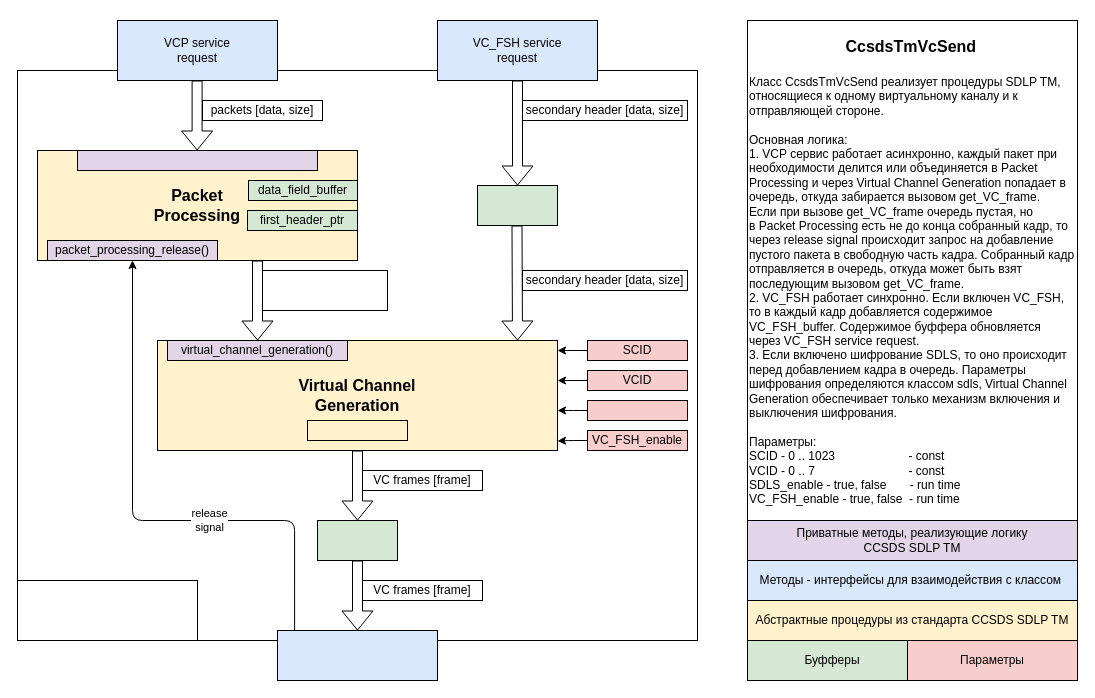
Some shapes in this 1095 by 698 pixel diagram are drawn without their labels. Each missing label, with the centre of its shape:
"class CcsdsTmVcSend" belongs at point 107,610.
"data fields [data, size], first_header_ptr" belongs at point 325,290.
"frames FIFO" belongs at point 357,540.
"get_VC_frame" belongs at point 357,655.
"packet_processing_add_packet()" belongs at point 197,160.
"SDLS" belongs at point 357,430.
"SDLS_enable" belongs at point 637,410.
"VC_FSH buffer" belongs at point 517,205.
